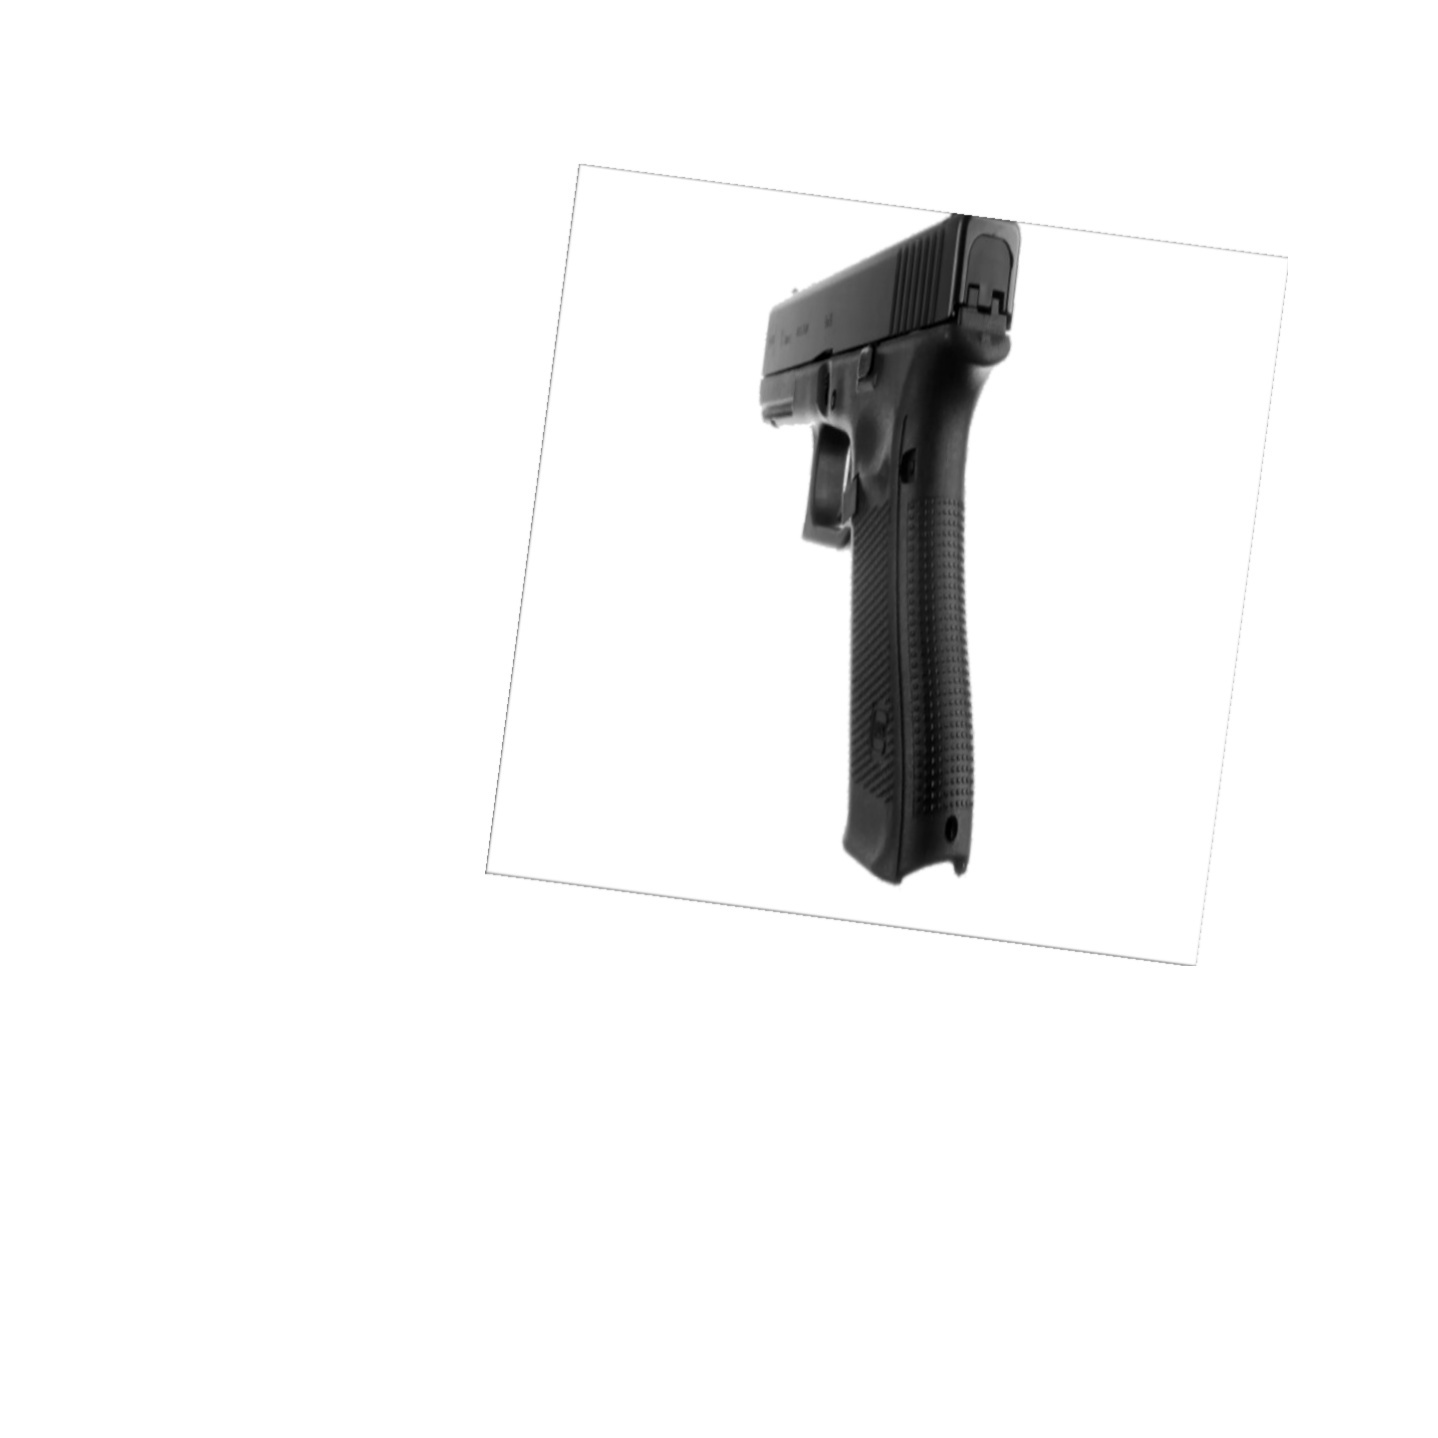gun: (759, 216, 1025, 888)
